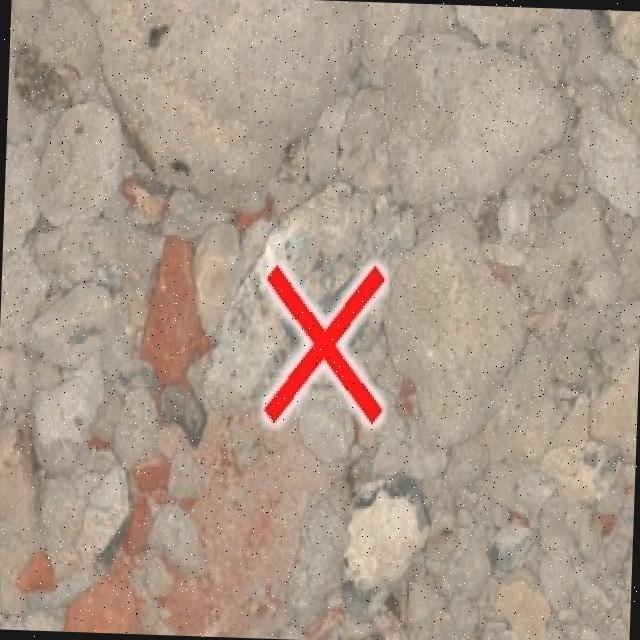x_marker: (261, 260, 385, 424)
